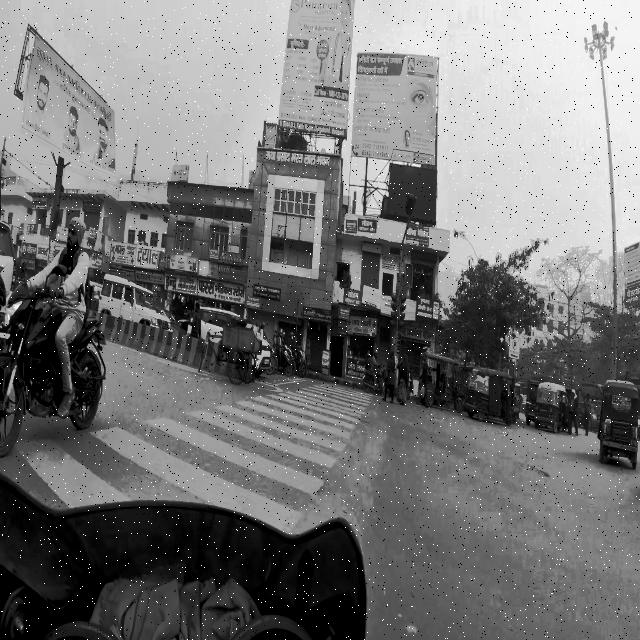Auto-Rickshaw: (595, 377, 640, 466)
Bike: (0, 216, 111, 444)
Car: (188, 304, 274, 375), (101, 274, 175, 334)
